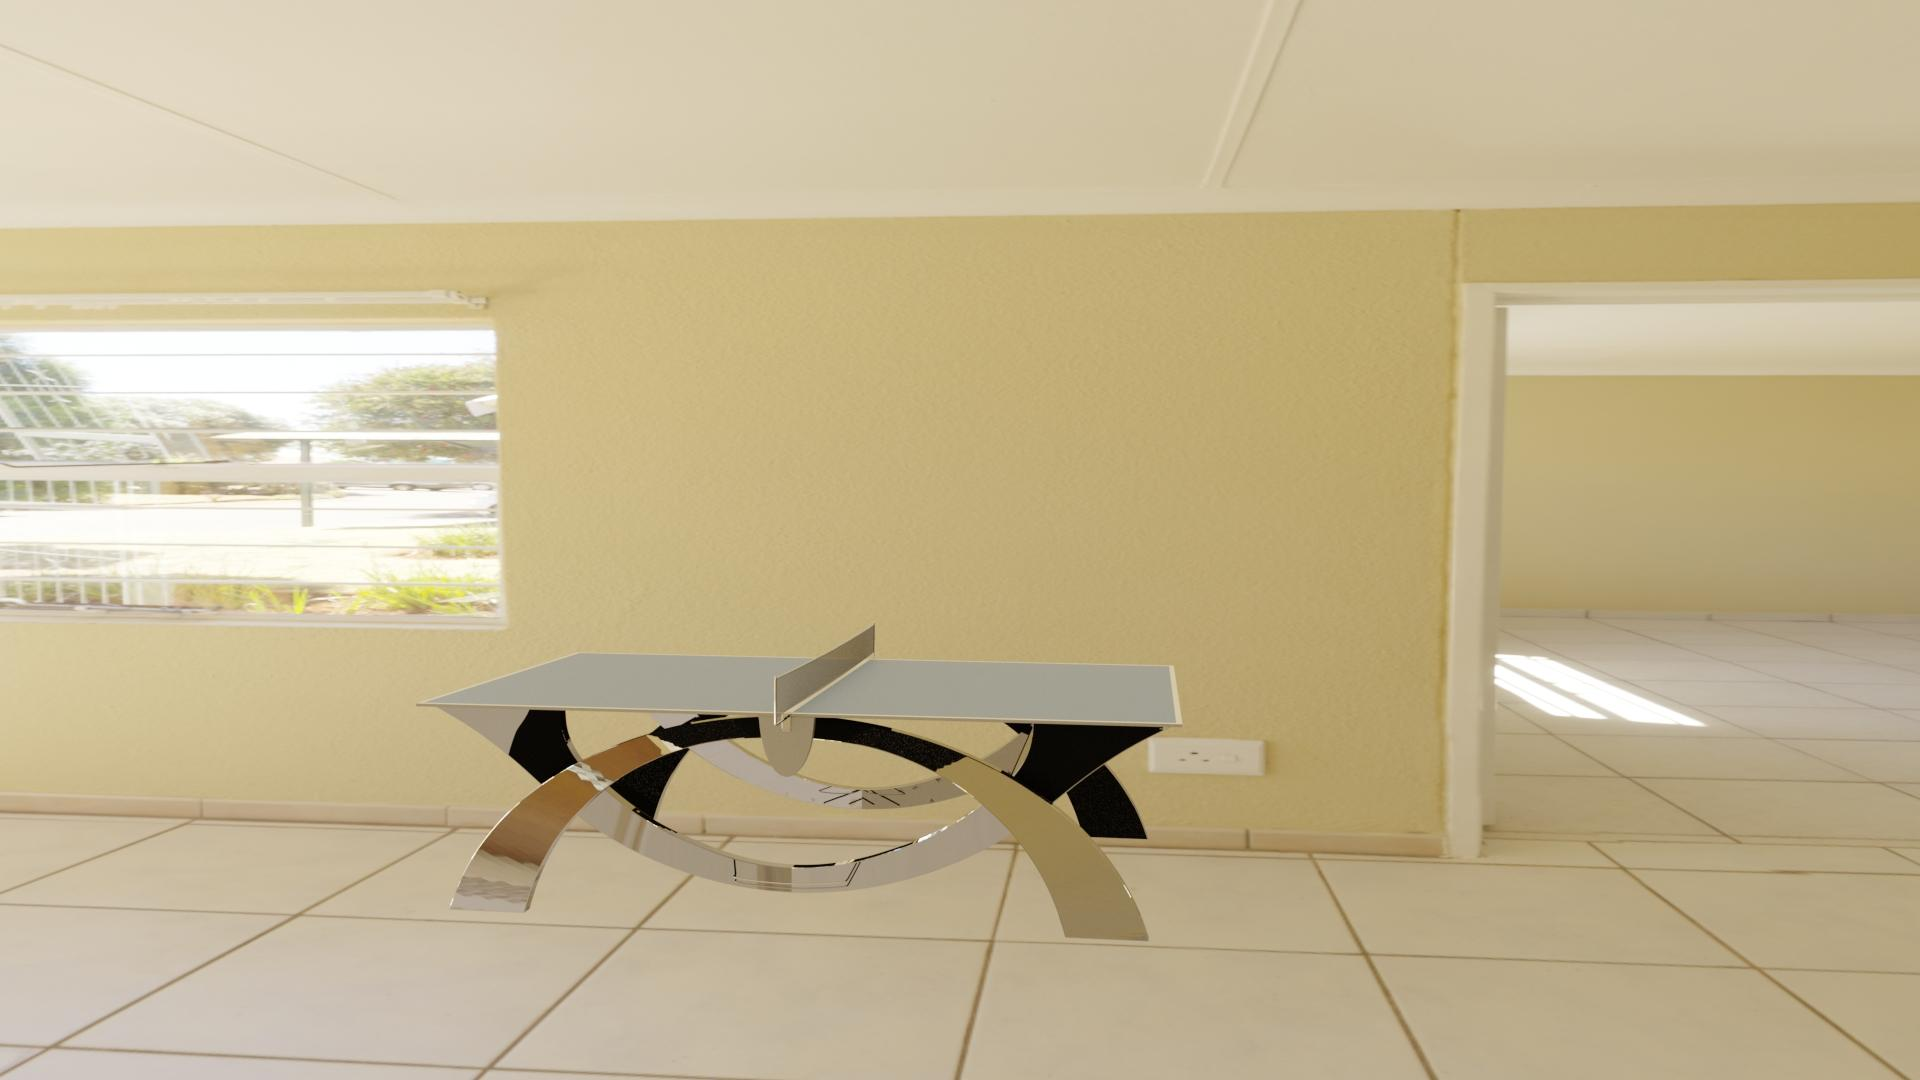table: (423, 653, 1176, 723)
